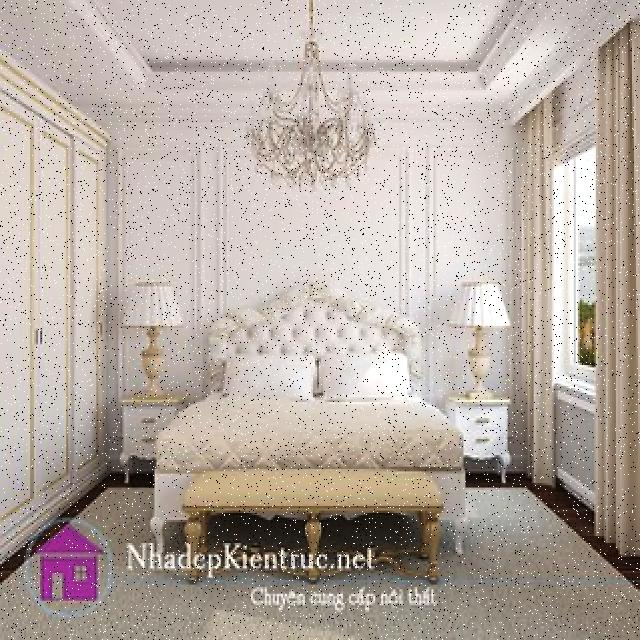bed: (157, 334, 447, 502)
